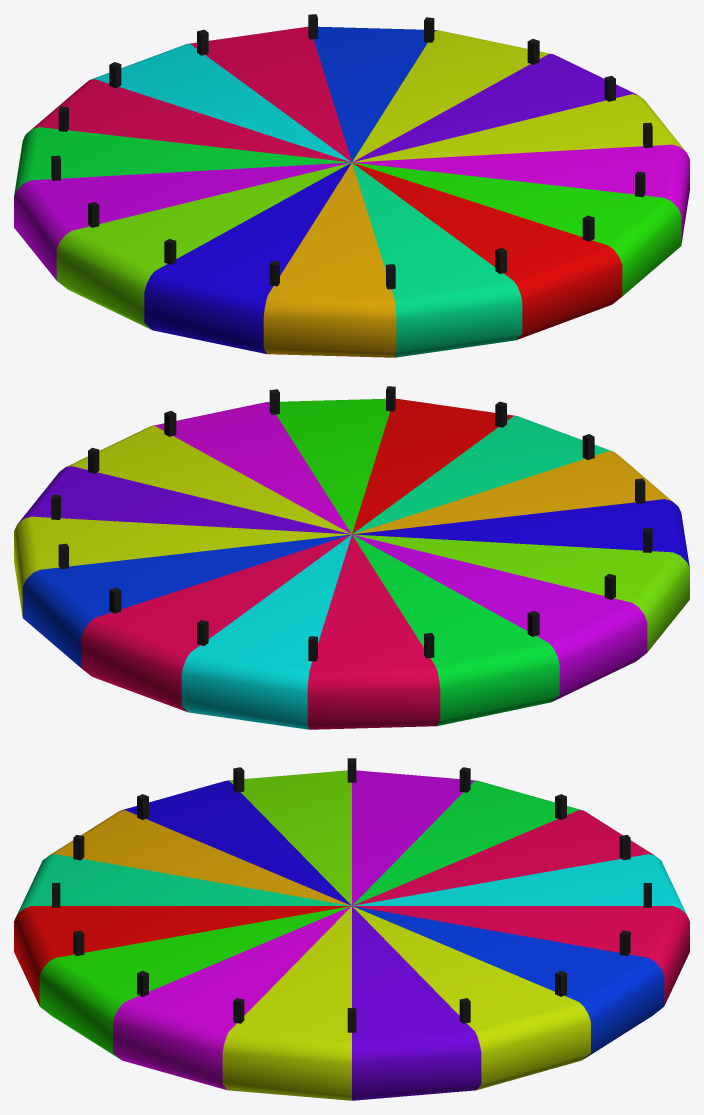
Rendered from wheel.glb.
3 views of the same model, one above another, from view 1: azimuth 30°, elevation 25°; view 2: azimuth 150°, elevation 25°; view 3: azimuth 270°, elevation 25° (orthographic).
Parts seen in each view (by area): view 1: Cylinder; view 2: Cylinder; view 3: Cylinder.
Part boxes in pixels (x1,y1,x2,y2): Cylinder: (14,14,689,357); Cylinder: (14,386,689,729); Cylinder: (14,758,689,1100).
Size of the model in its own units: 8 by 1.02 by 8.
